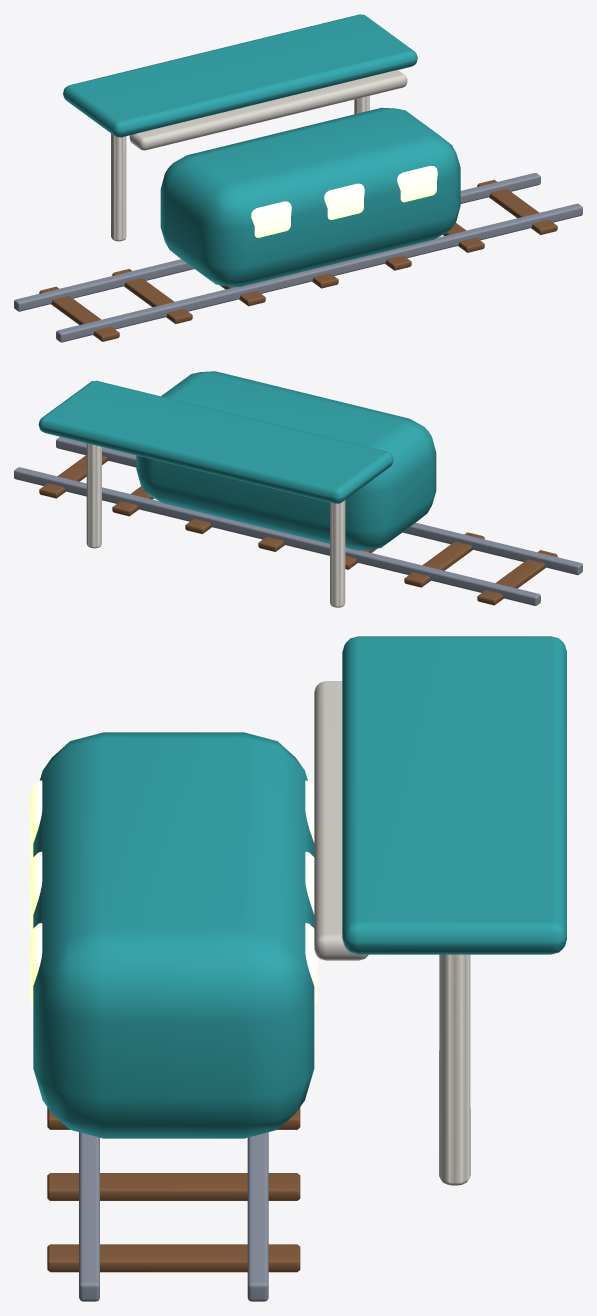
File: corner_metro.glb
The picture shows the model from 3 angles, top to bottom: view 1: azimuth 30°, elevation 25°; view 2: azimuth 150°, elevation 25°; view 3: azimuth 270°, elevation 25°; orthographic projection. The views are drawn at different scales.
Parts seen in each view (by area): view 1: Cube; view 2: Cube; view 3: Cube.
Part boxes in pixels (bbox=[...]): Cube: bbox=[14, 14, 582, 342]; Cube: bbox=[14, 371, 582, 607]; Cube: bbox=[30, 636, 566, 1301].
Bounding box in the file's own units: 0.86 × 0.2225 × 0.3825.
